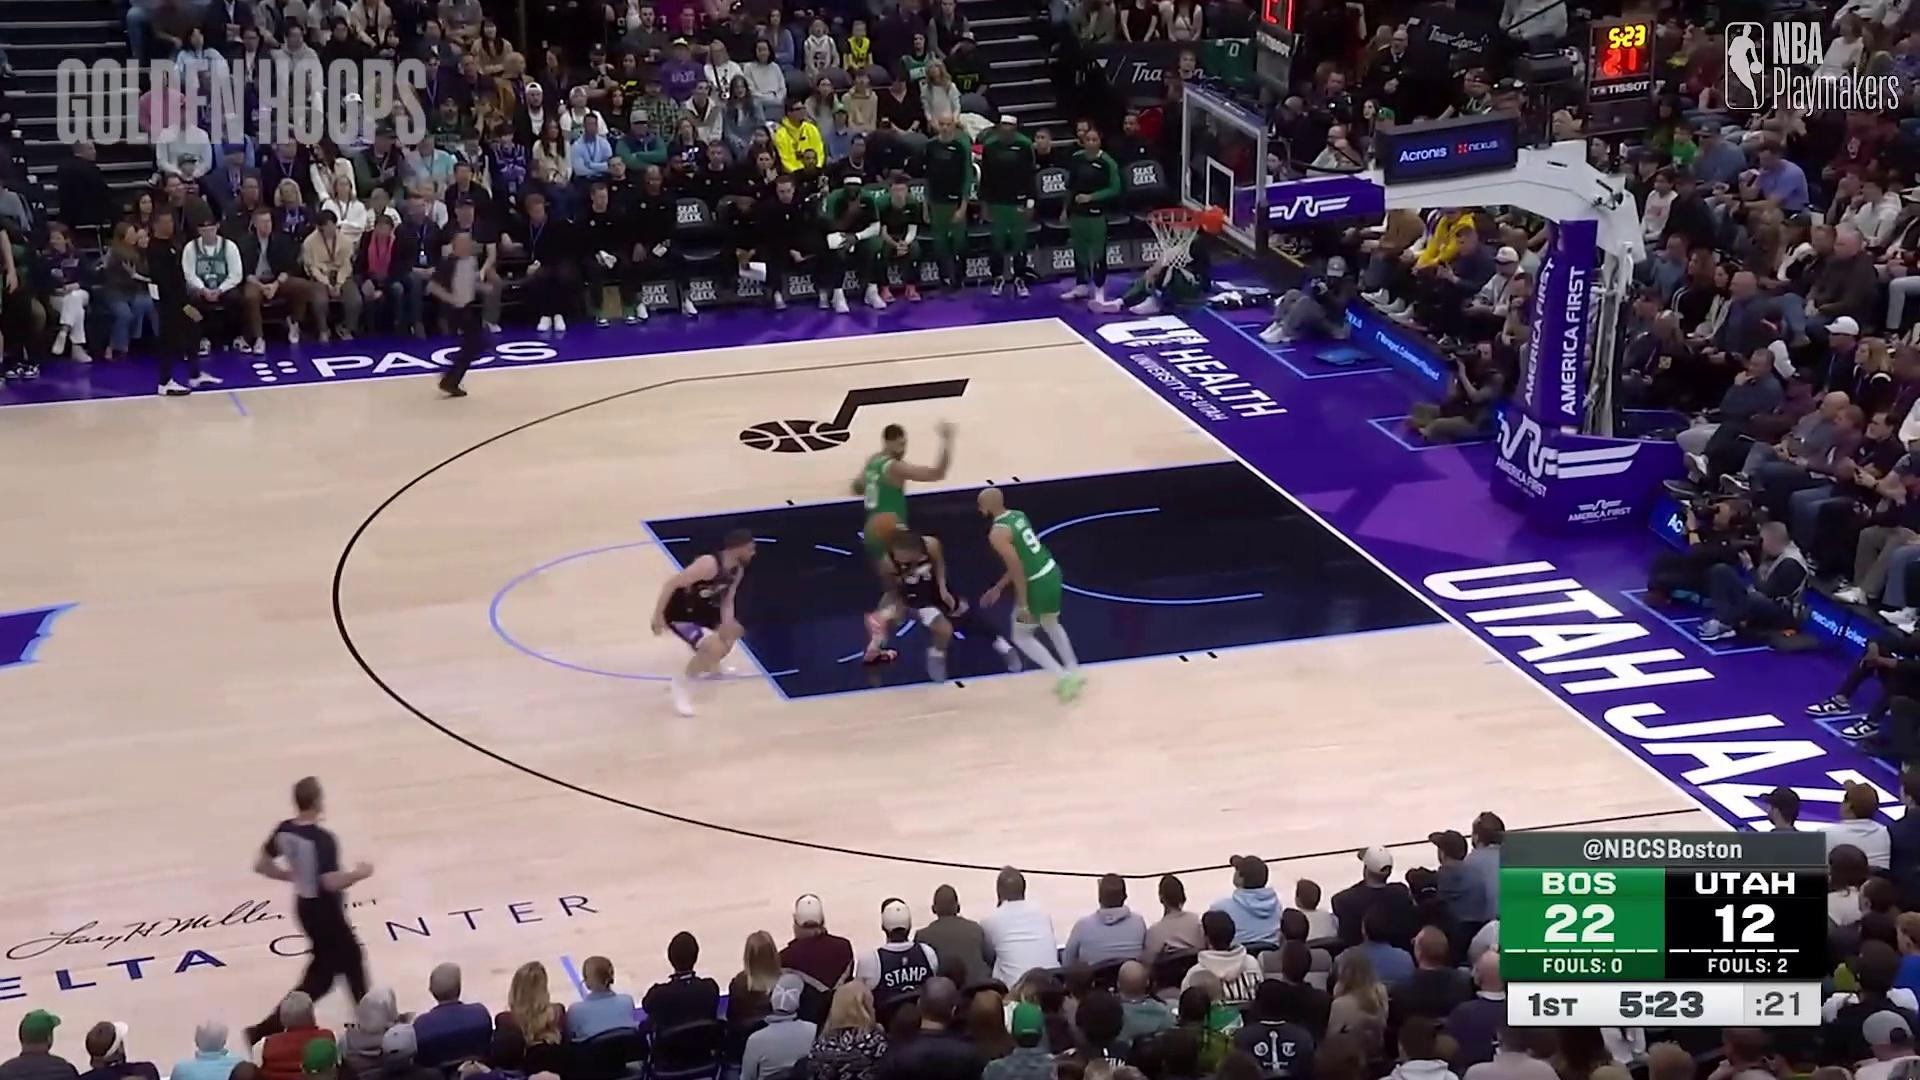ball: (860, 506, 899, 541)
hoop: (1135, 185, 1208, 277)
